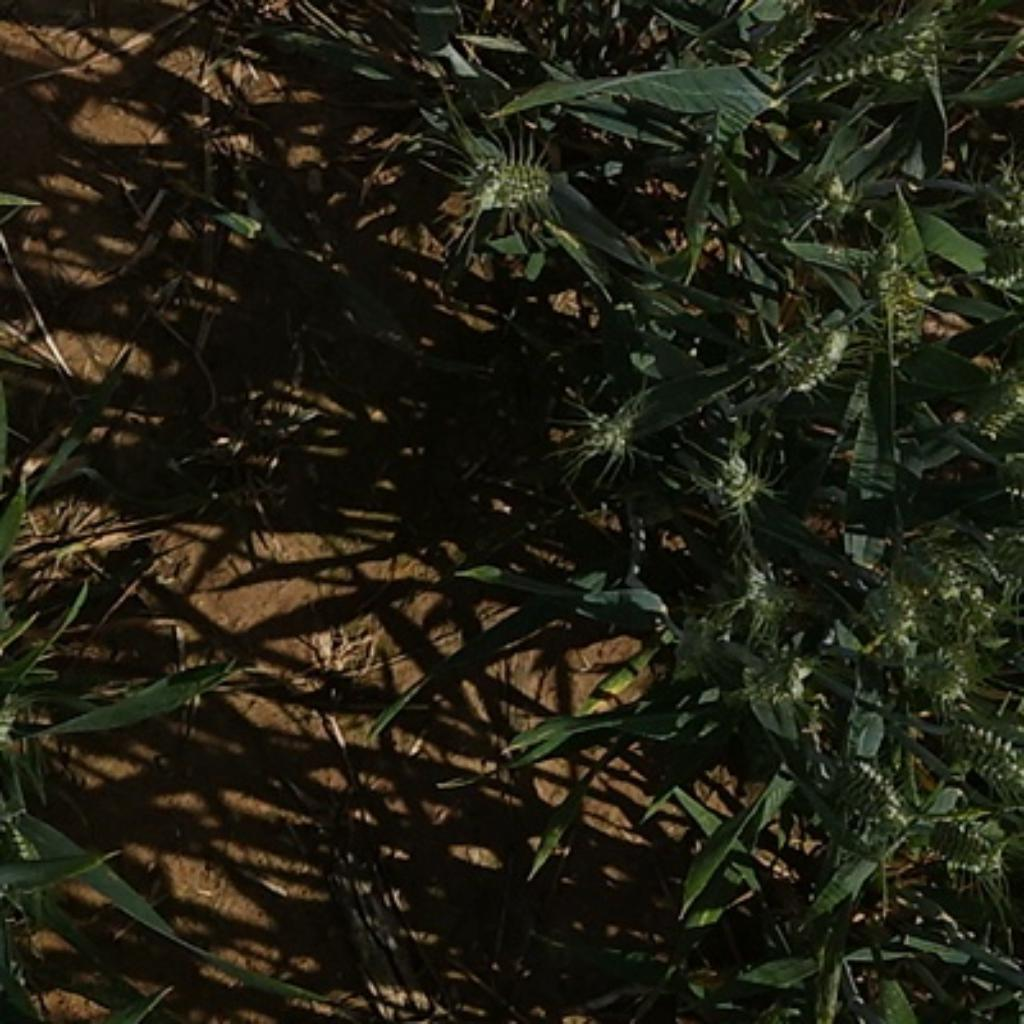0-0: (785, 6, 970, 97), (721, 545, 857, 632), (793, 737, 901, 844), (565, 391, 673, 478), (849, 238, 931, 345), (760, 302, 852, 396), (665, 606, 765, 691), (844, 578, 939, 665), (934, 706, 1024, 793), (458, 140, 558, 217), (903, 803, 1003, 878), (906, 524, 988, 614), (939, 363, 1024, 442), (750, 647, 829, 724), (911, 634, 980, 701), (960, 168, 1024, 240), (796, 174, 870, 232), (706, 442, 762, 504), (971, 231, 1024, 296), (983, 522, 1024, 596), (989, 451, 1024, 510)
